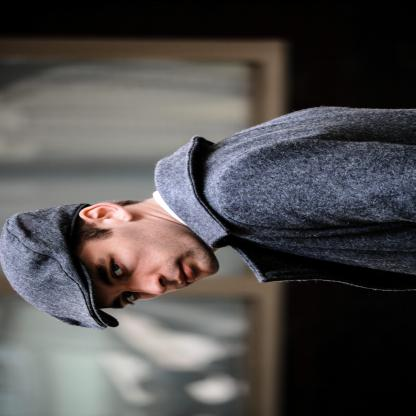Eye: (109, 257, 131, 280), (122, 290, 140, 303)
Mouth: (174, 254, 198, 284)
Nose: (124, 274, 166, 294)
